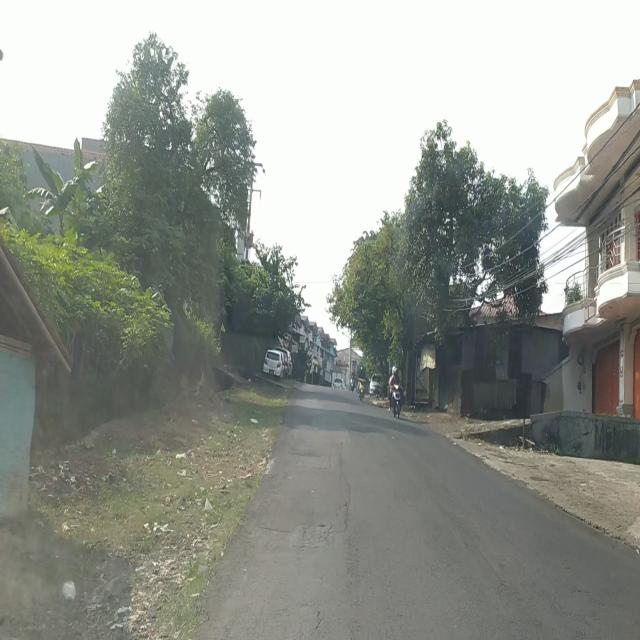Drain Hole: (304, 492, 354, 549)
